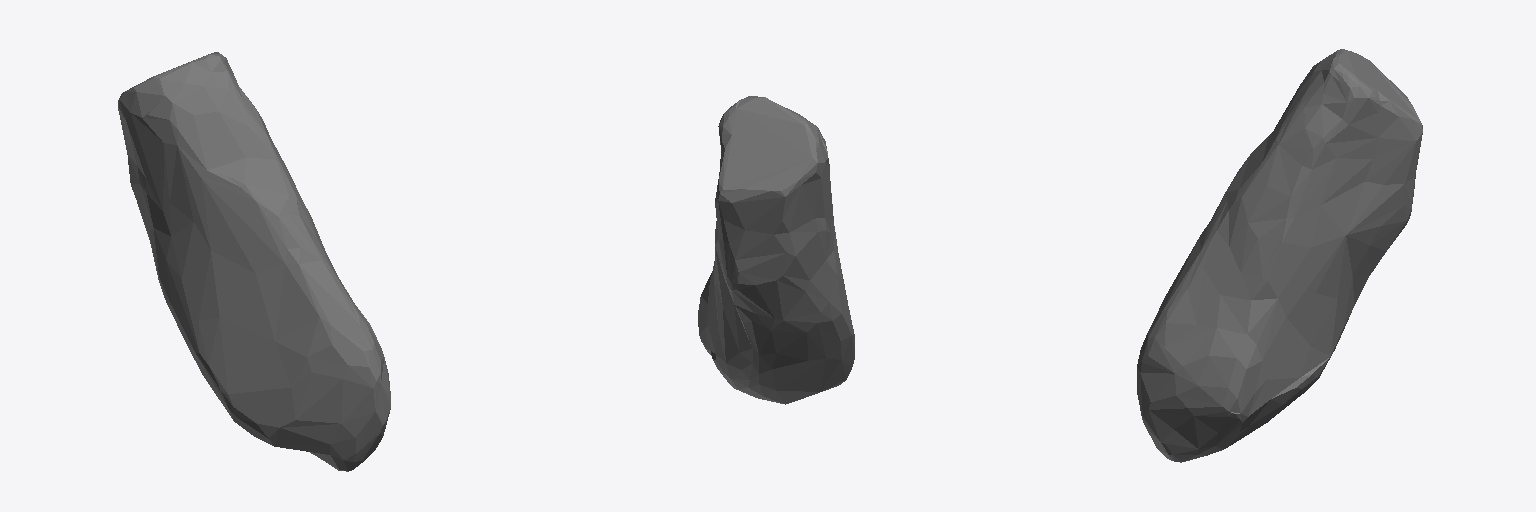
Rendered from larm.obj.
3 views of the same model, side by side, from view 1: azimuth 30°, elevation 25°; view 2: azimuth 150°, elevation 25°; view 3: azimuth 270°, elevation 25° (orthographic).
Parts seen in each view (by area): view 1: larm; view 2: larm; view 3: larm.
Boxes of the visible parts, box(x1,y1,x2,y2) form: larm: box(118, 52, 390, 471); larm: box(698, 96, 854, 404); larm: box(1137, 49, 1422, 462).
Bounding box in the file's own units: 4.7 × 8.86 × 6.23.